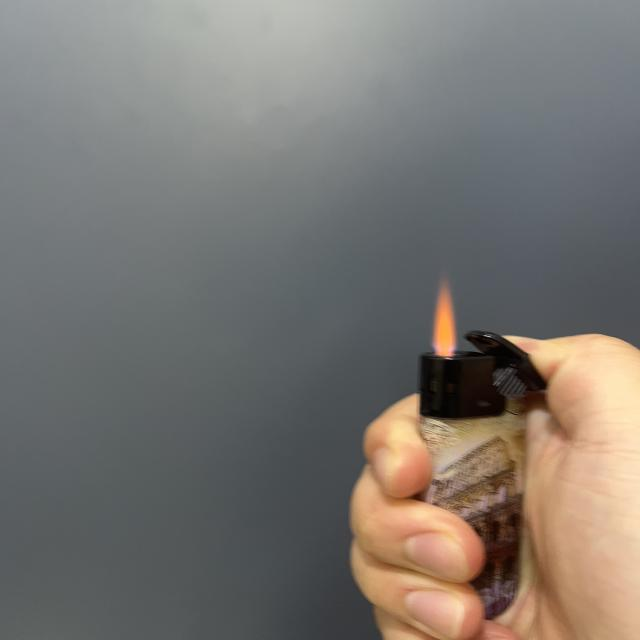fire: (428, 282, 462, 354)
